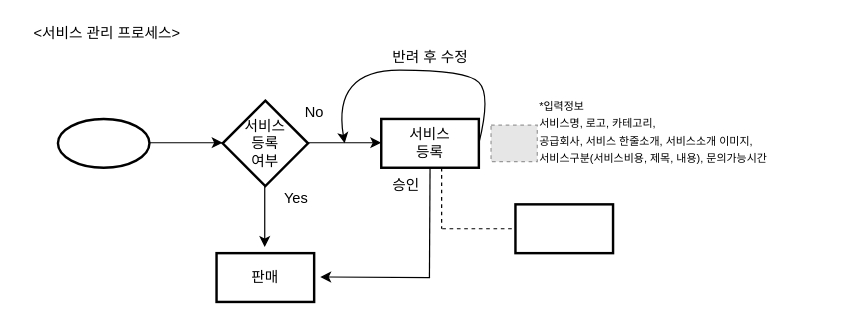
This 850x323 diagram has some shape labels left out. Grey dashed boxes stand in for pictures. The shapes that lost their labels are listed below. From the top down, each one's box as (x1, y1, x2, y2) in pixels, then its label:
(56, 117, 150, 168): 로그인
(514, 203, 614, 254): 서비스삭제
